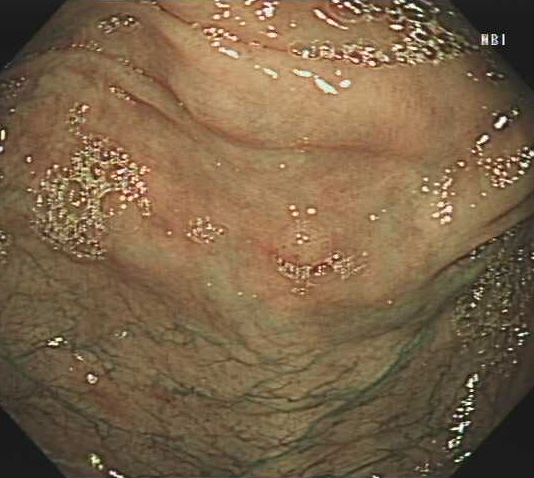adenoma: (270, 213, 338, 270)
